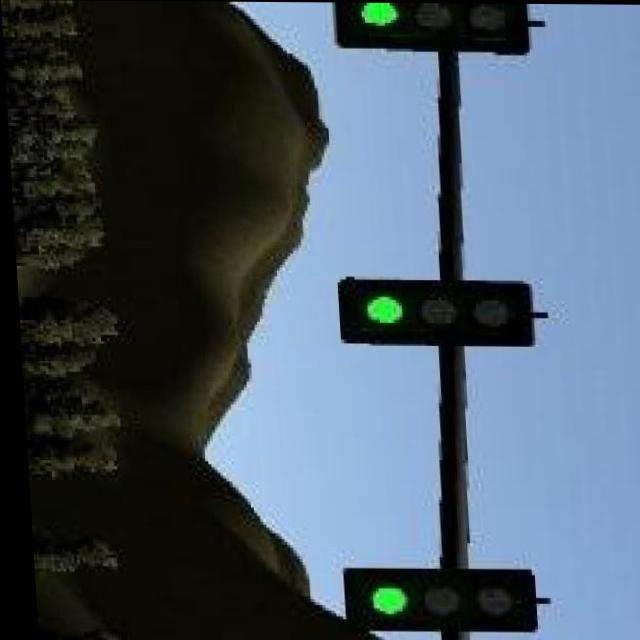green light: (334, 568, 529, 635), (335, 282, 530, 343), (328, 5, 527, 54)
